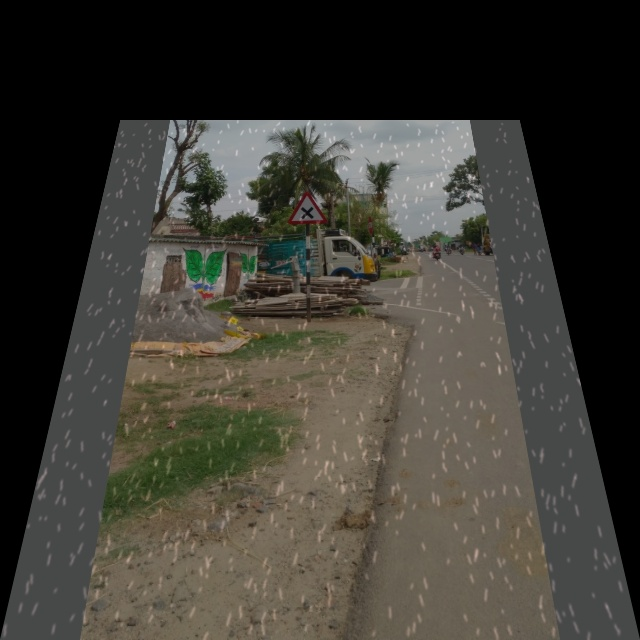Cross_Road: (285, 189, 328, 225)
